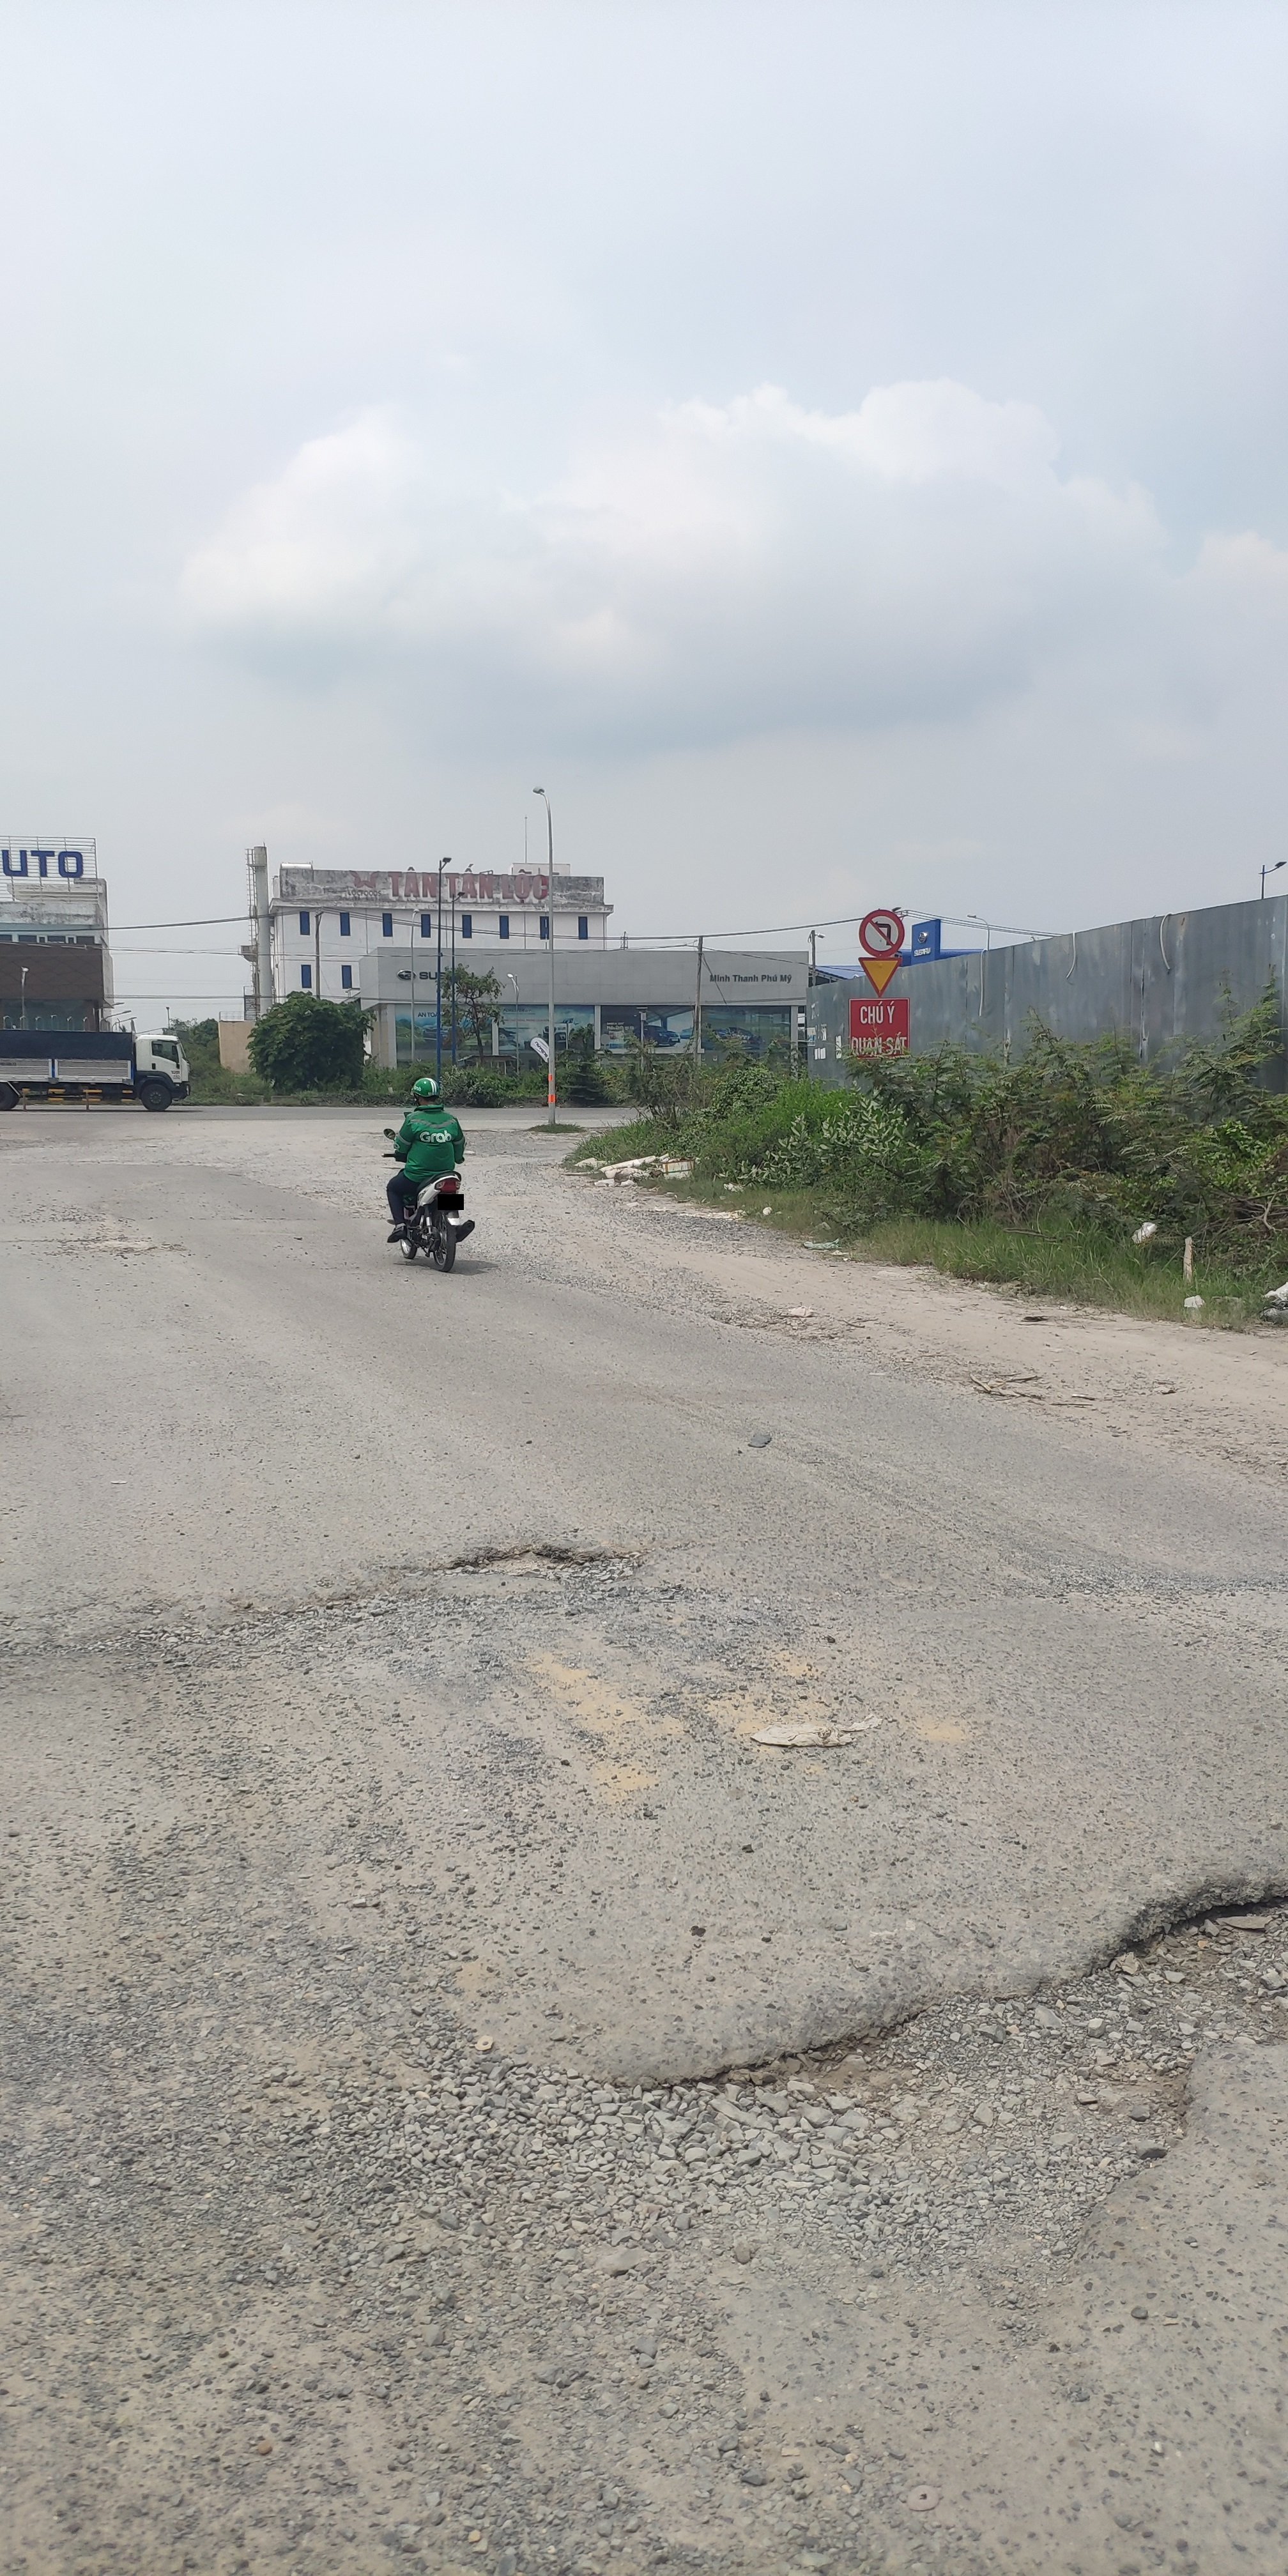hole: (613, 2031, 1051, 2247), (1106, 1863, 1288, 2037), (427, 1526, 631, 1608)
